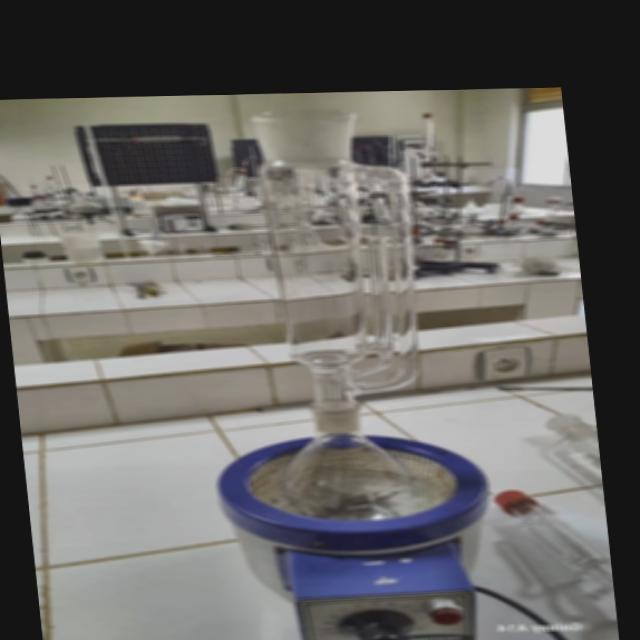Soxhlet: (218, 100, 440, 514)
